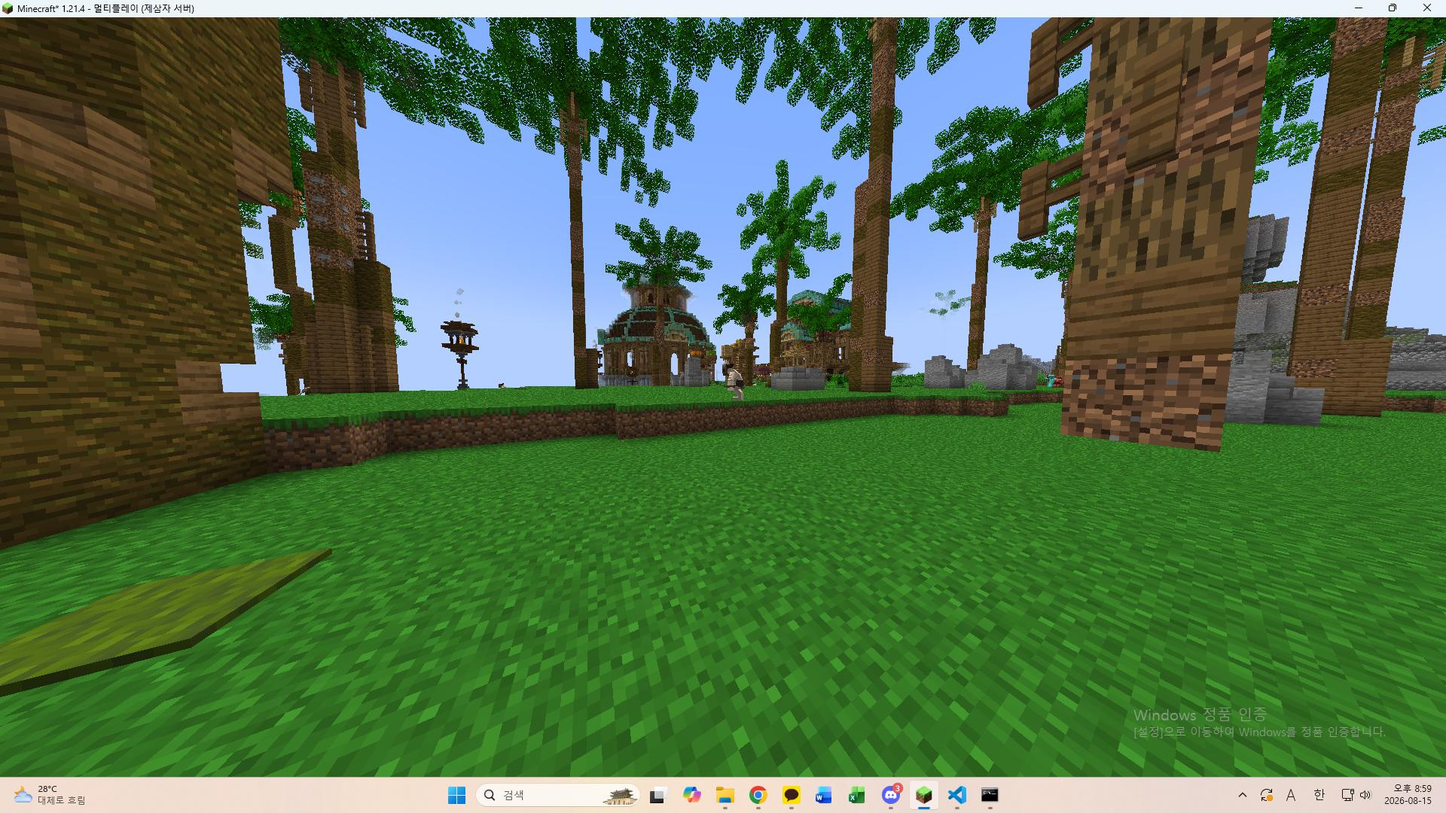bow_indian: (710, 343, 769, 411)
